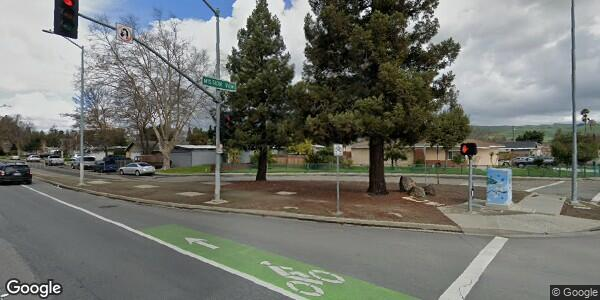Steel_Pole: (193, 1, 236, 205), (39, 28, 86, 188), (566, 1, 580, 205)
